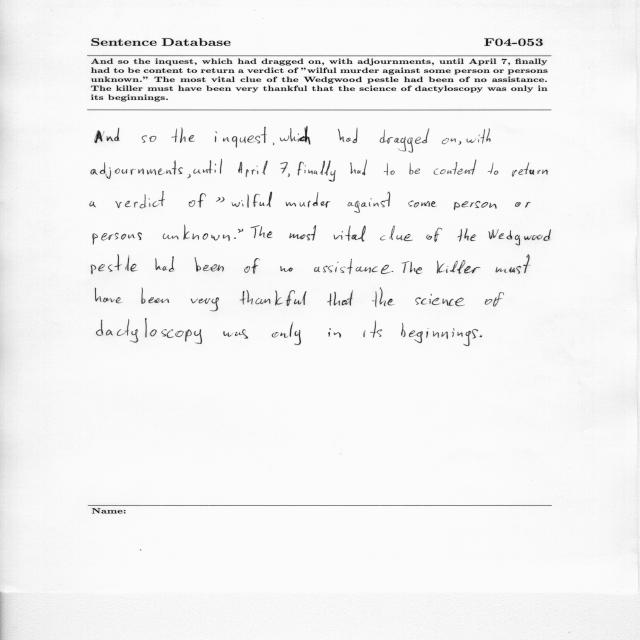word: (97, 318, 202, 344), (402, 323, 479, 346), (91, 160, 183, 179), (380, 128, 430, 153), (314, 259, 393, 274), (215, 127, 267, 148), (163, 225, 230, 241), (240, 290, 307, 306), (489, 229, 551, 245), (348, 191, 391, 213), (91, 255, 138, 275), (115, 192, 165, 209), (298, 160, 336, 182), (286, 192, 331, 208), (496, 254, 531, 274), (434, 159, 477, 175), (232, 192, 272, 208), (272, 323, 301, 345), (93, 232, 142, 245), (437, 260, 480, 274), (415, 294, 465, 306), (280, 126, 310, 145), (512, 162, 548, 177), (333, 226, 366, 242), (380, 226, 413, 241), (238, 161, 268, 177), (141, 288, 169, 304), (193, 159, 222, 174), (195, 257, 224, 272), (289, 225, 316, 241), (372, 288, 394, 307), (327, 290, 353, 306), (95, 288, 122, 303), (466, 128, 491, 144), (191, 298, 219, 312), (454, 201, 497, 210), (171, 127, 195, 143), (95, 128, 120, 143), (155, 256, 175, 272), (364, 321, 382, 338), (338, 128, 358, 143), (251, 225, 273, 238), (485, 292, 504, 307), (350, 160, 367, 176), (244, 258, 260, 274), (189, 193, 206, 208), (224, 329, 249, 339), (458, 229, 476, 242), (426, 228, 442, 242), (408, 201, 436, 208), (410, 262, 422, 274), (384, 163, 395, 175), (328, 328, 341, 338), (409, 163, 420, 174), (488, 163, 498, 175), (142, 135, 156, 143), (515, 202, 531, 208), (402, 261, 410, 273), (442, 138, 456, 144), (280, 266, 293, 272), (280, 162, 287, 173), (216, 197, 225, 203), (90, 202, 96, 208), (238, 229, 243, 233), (187, 175, 191, 179), (459, 141, 462, 145), (273, 143, 275, 146), (288, 174, 290, 177), (479, 335, 482, 337), (234, 237, 236, 239)
